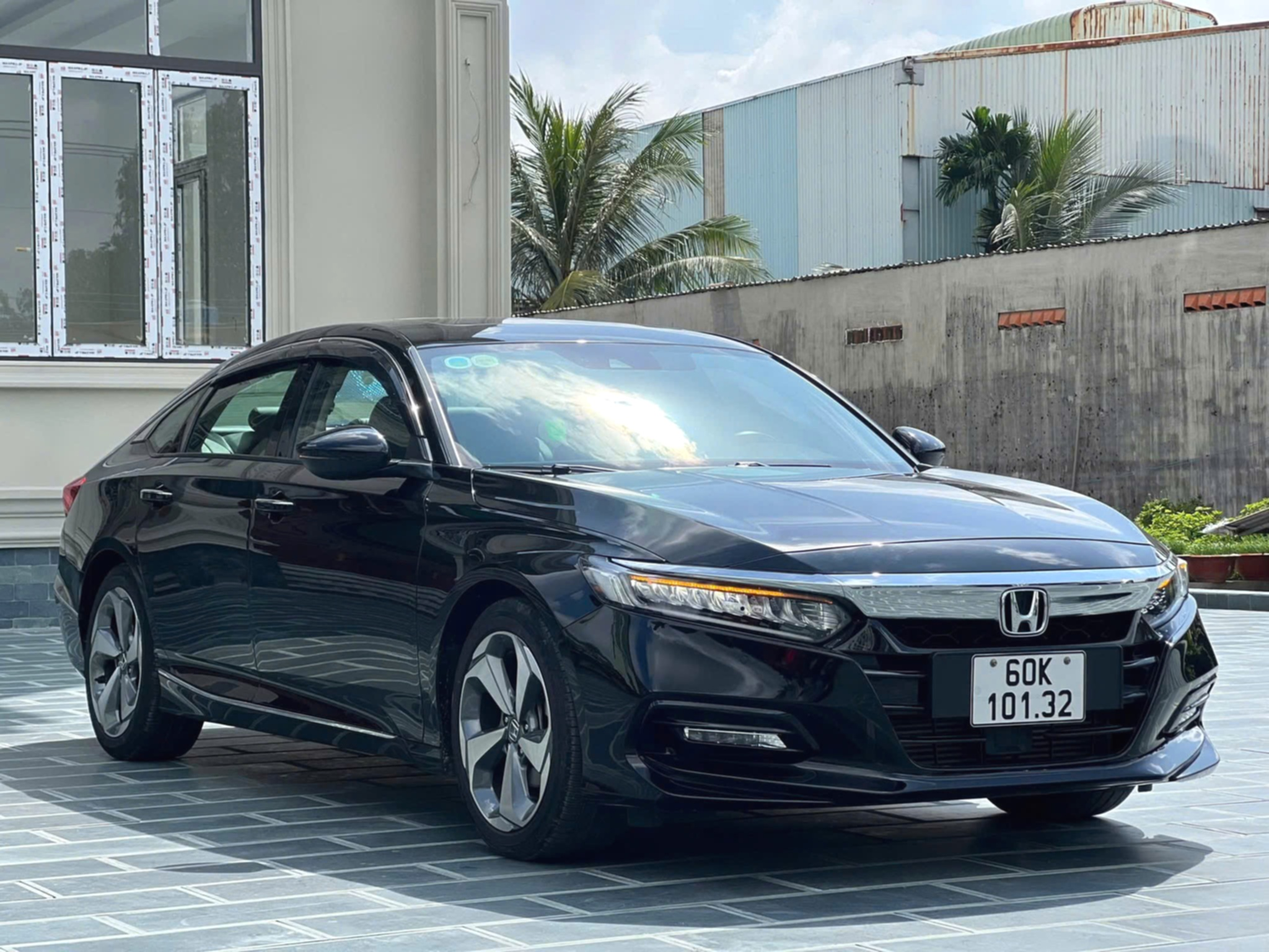Bien-so: (942, 679, 1059, 770)
